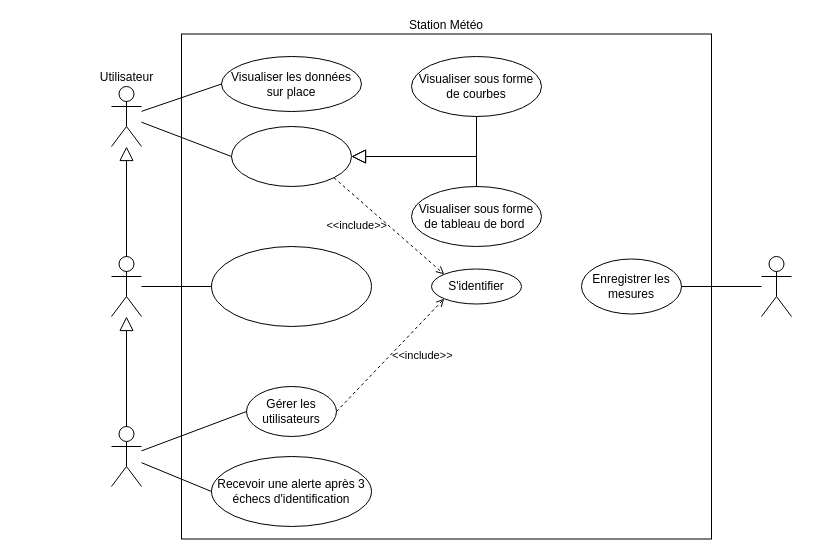
Some shapes in this 818 by 557 pixel diagram are drawn without their labels. The centre of each missing label's shape, as x and y in pixels:
"Administrateur" goes at point (126, 456).
"Capteurs" goes at point (776, 286).
"Recevoir une notification en cas d'alerte de données" goes at point (291, 286).
"Utilisateur mobile" goes at point (126, 286).
"Visualiser les données à distance" goes at point (291, 156).
